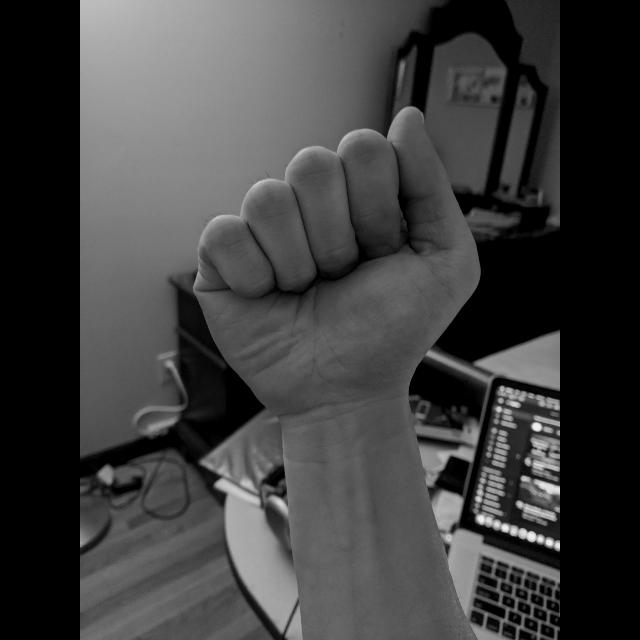A: (183, 99, 492, 433)
